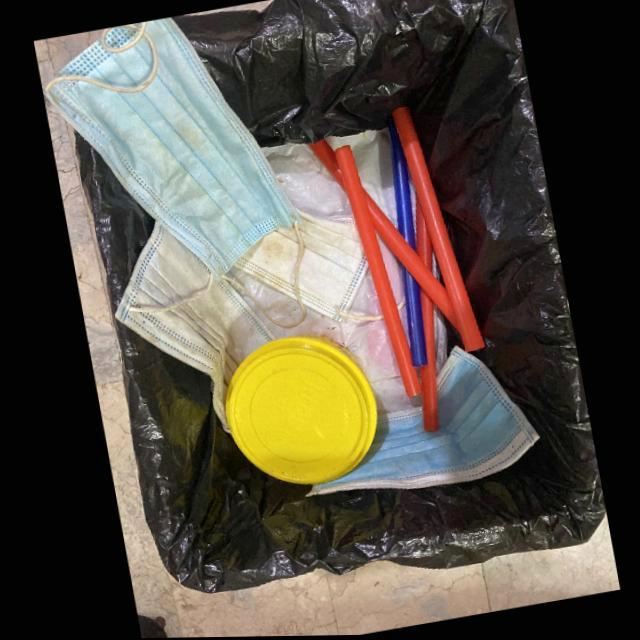plastic_container: (221, 335, 377, 484)
